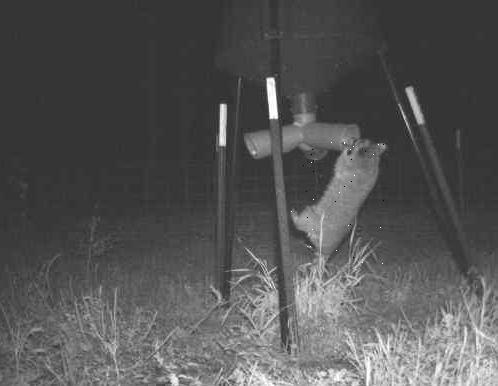Raccoon: (291, 140, 388, 270)
